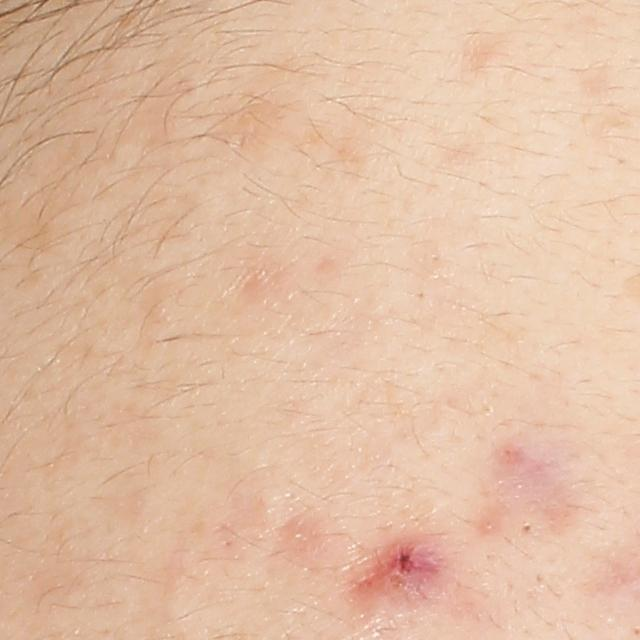comedo: (518, 519, 535, 537)
papule: (346, 539, 444, 608)
